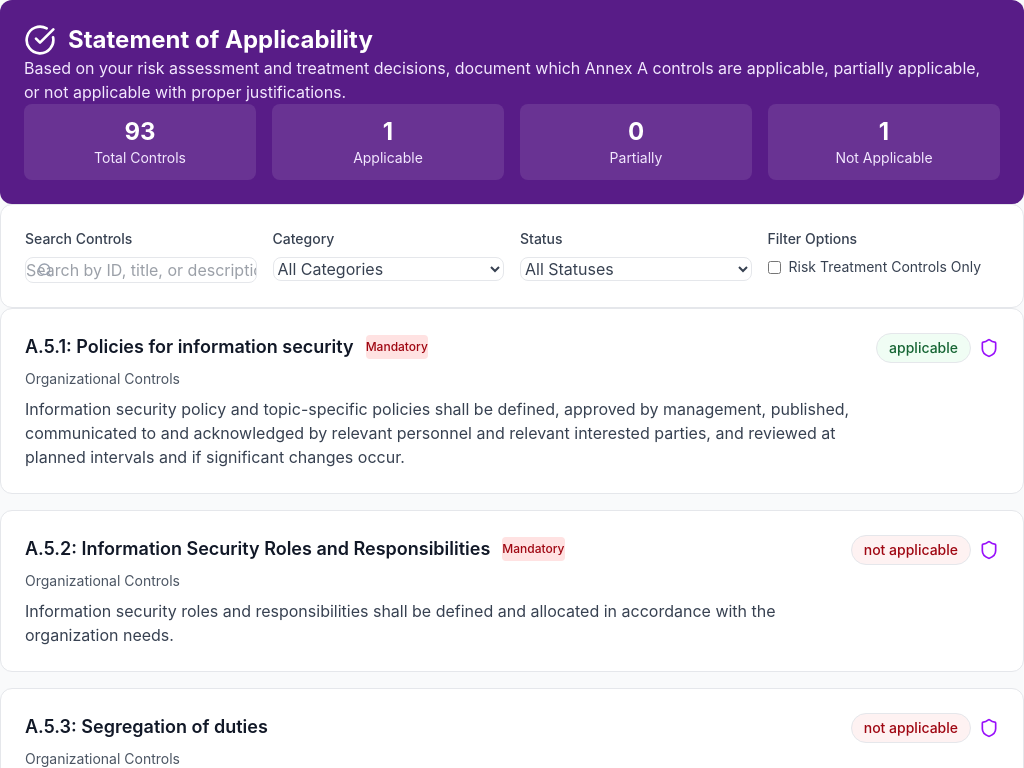
it: StatementOfApplicability Component › Control Filtering › should filter controls by status
Select "Applicable" in the dropdown "All Statuses" below "Status" at (636, 269), box [520,257,752,281]
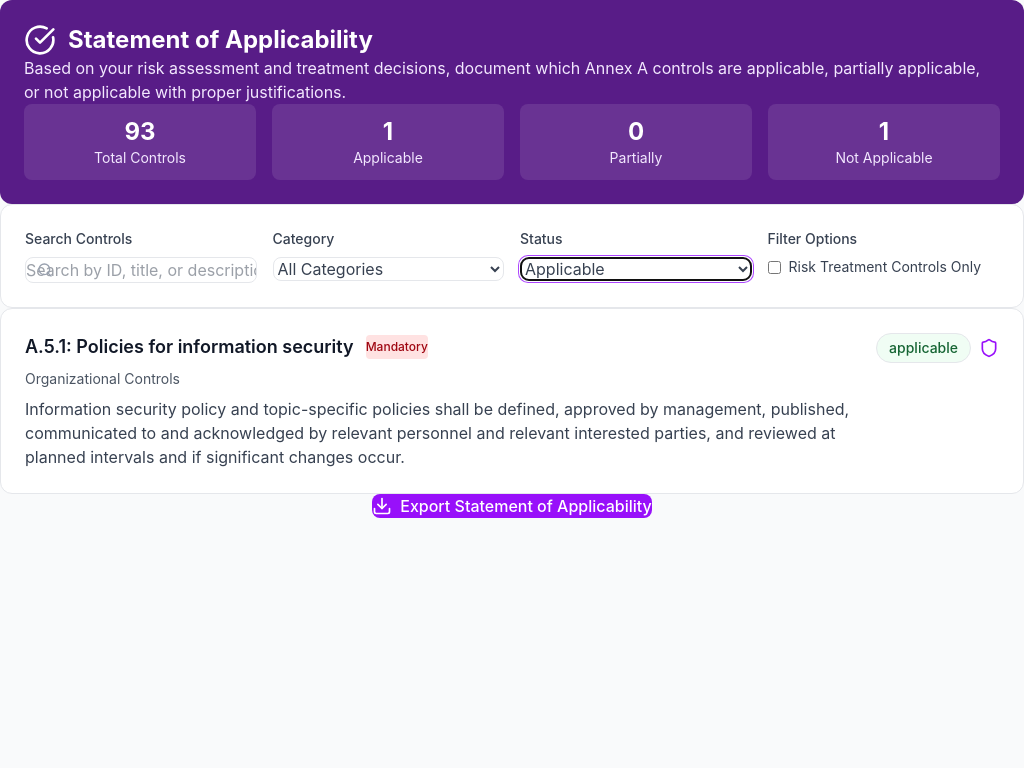
Expected: the heading "A.5.1: Policies for information security" is shown, [25,333,354,361]
Expected: the heading "A.5.2:" is gone
